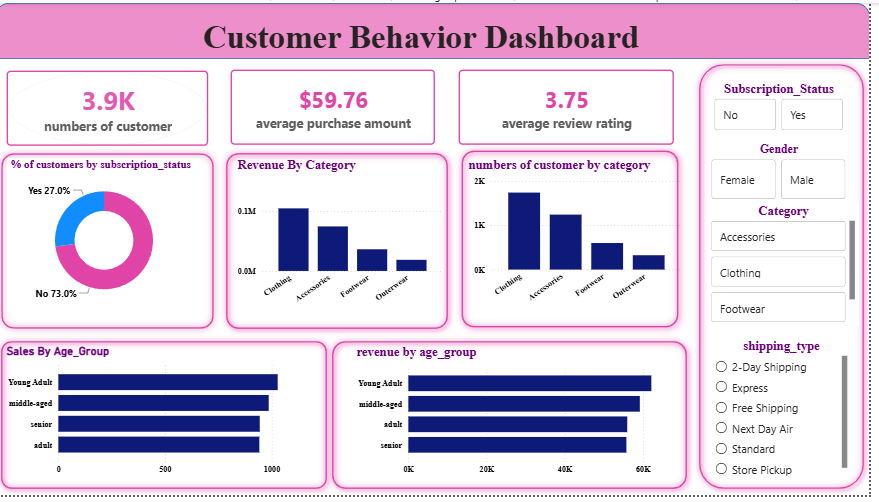

The page's visual inventory and layout, read from the dashboard file:
{"tool":"powerbi","page":{"name":"Page 1","canvas":[1280,720],"ordinal":0},"visuals":[{"type":"cardVisual","fields":{"Data":["customer_behaviour customer.numbers of customer"]},"box":[0,82,329.3,144.9],"z":0},{"type":"cardVisual","fields":{"Data":["customer_behaviour customer.average purchase amount"]},"box":[327.8,80.5,333.7,144.9],"z":1},{"type":"cardVisual","fields":{"Data":["customer_behaviour customer.average review rating"]},"box":[661.5,80.5,349.8,144.9],"z":2},{"type":"shape","box":[0,0,1280.5,82],"z":3},{"type":"textbox","box":[0,0,1246.8,82],"z":4},{"type":"shape","box":[0,210.7,329.3,275.1],"z":5},{"type":"donutChart","title":"% of customers by subscription_status","fields":{"Category":["customer_behaviour customer.subscription_status"],"Y":["customer_behaviour customer.numbers of customer"]},"box":[17.6,226.8,283.9,223.9],"z":6},{"type":"clusteredColumnChart","title":"Revenue By Category","fields":{"Category":["customer_behaviour customer.category"],"Y":["Sum(customer_behaviour customer.purchase_amount)"]},"box":[349.8,225.4,311.7,229.8],"z":7},{"type":"shape","box":[329.3,210.7,342.4,275.1],"z":8},{"type":"clusteredColumnChart","fields":{"Y":["customer_behaviour customer.numbers of customer"],"Category":["customer_behaviour customer.category"]},"box":[687.8,225.4,323.4,229.8],"z":9},{"type":"shape","box":[671.7,204.9,339.5,281],"z":10},{"type":"shape","box":[1021.5,80.5,259,639.5],"z":12},{"type":"advancedSlicerVisual","title":"Subscription_Status","fields":{"Values":["customer_behaviour customer.subscription_status"]},"box":[1047.8,114.1,199,77.6],"z":13},{"type":"advancedSlicerVisual","title":"Gender","fields":{"Values":["customer_behaviour customer.gender"]},"box":[1043.4,204.9,207.8,87.8],"z":14},{"type":"advancedSlicerVisual","title":"Category","fields":{"Values":["customer_behaviour customer.category"]},"box":[1043.4,292.7,221,180],"z":15},{"type":"listSlicer","fields":{"Values":["customer_behaviour customer.shipping_type"]},"box":[1049.3,490.2,203.4,207.8],"z":16},{"type":"clusteredBarChart","title":"revenue by age_group","fields":{"Y":["Sum(customer_behaviour customer.purchase_amount)"],"Category":["customer_behaviour customer.age_group"]},"box":[523.9,499,497.6,199],"z":17},{"type":"shape","box":[484.4,485.9,537.1,234.1],"z":18},{"type":"clusteredBarChart","title":"Sales By Age_Group","fields":{"Category":["customer_behaviour customer.age_group"],"Y":["customer_behaviour customer.numbers of customer"]},"box":[11.7,499,472.7,199],"z":19},{"type":"shape","box":[0,485.9,494.6,234.1],"z":21}]}

Visuals, with their boxes in screenshot pixels (x1, y1, x2, y2), scaled from the page's 1280x720 canvas onto the 879x502 screenshot:
cardVisual - customer_behaviour customer.numbers of customer: bbox(0, 57, 226, 158)
cardVisual - customer_behaviour customer.average purchase amount: bbox(225, 56, 454, 157)
cardVisual - customer_behaviour customer.average review rating: bbox(454, 56, 694, 157)
shape: bbox(0, 0, 878, 57)
textbox: bbox(0, 0, 856, 57)
shape: bbox(0, 147, 226, 339)
"% of customers by subscription_status" donutChart: bbox(12, 158, 207, 314)
"Revenue By Category" clusteredColumnChart: bbox(240, 157, 454, 317)
shape: bbox(226, 147, 461, 339)
clusteredColumnChart - customer_behaviour customer.numbers of customer x customer_behaviour customer.category: bbox(472, 157, 694, 317)
shape: bbox(461, 143, 694, 339)
shape: bbox(701, 56, 878, 501)
"Subscription_Status" advancedSlicerVisual: bbox(720, 80, 856, 134)
"Gender" advancedSlicerVisual: bbox(717, 143, 859, 204)
"Category" advancedSlicerVisual: bbox(717, 204, 868, 330)
listSlicer - customer_behaviour customer.shipping_type: bbox(721, 342, 860, 487)
"revenue by age_group" clusteredBarChart: bbox(360, 348, 701, 487)
shape: bbox(333, 339, 701, 501)
"Sales By Age_Group" clusteredBarChart: bbox(8, 348, 333, 487)
shape: bbox(0, 339, 340, 501)
